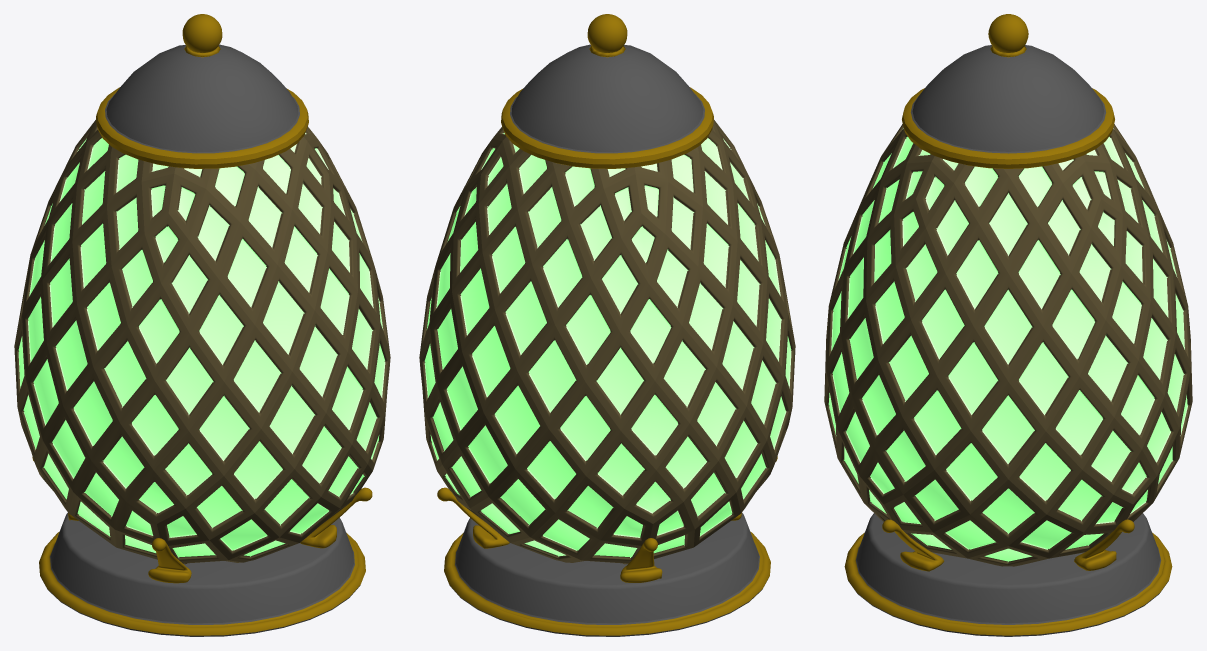
The model's file is Turtle Egg 2x2.fbx.
The picture shows the model from 3 angles, left to right: view 1: azimuth 30°, elevation 25°; view 2: azimuth 150°, elevation 25°; view 3: azimuth 270°, elevation 25°; orthographic projection.
Parts seen in each view (by area): view 1: Egg.001, Base, Egg_top.001, Retopo_Support.003, Sphere.002; view 2: Egg.001, Base, Egg_top.001, Retopo_Support.003, Sphere.002; view 3: Egg.001, Base, Egg_top.001, Retopo_Support.003, Sphere.002.
Boxes of the visible parts, left/top/right/bottom form: Egg.001: left=14, top=119, right=390, bottom=564; Base: left=39, top=513, right=365, bottom=636; Egg_top.001: left=96, top=44, right=308, bottom=168; Retopo_Support.003: left=32, top=457, right=372, bottom=583; Sphere.002: left=182, top=14, right=222, bottom=52; Egg.001: left=419, top=119, right=795, bottom=564; Base: left=444, top=513, right=770, bottom=636; Egg_top.001: left=501, top=44, right=713, bottom=168; Retopo_Support.003: left=437, top=456, right=777, bottom=582; Sphere.002: left=587, top=14, right=627, bottom=52; Egg.001: left=824, top=124, right=1192, bottom=566; Base: left=844, top=513, right=1172, bottom=636; Egg_top.001: left=902, top=45, right=1114, bottom=168; Retopo_Support.003: left=882, top=519, right=1134, bottom=571; Sphere.002: left=988, top=14, right=1028, bottom=52.
Size of the model in its own units: 197 by 326 by 197.
